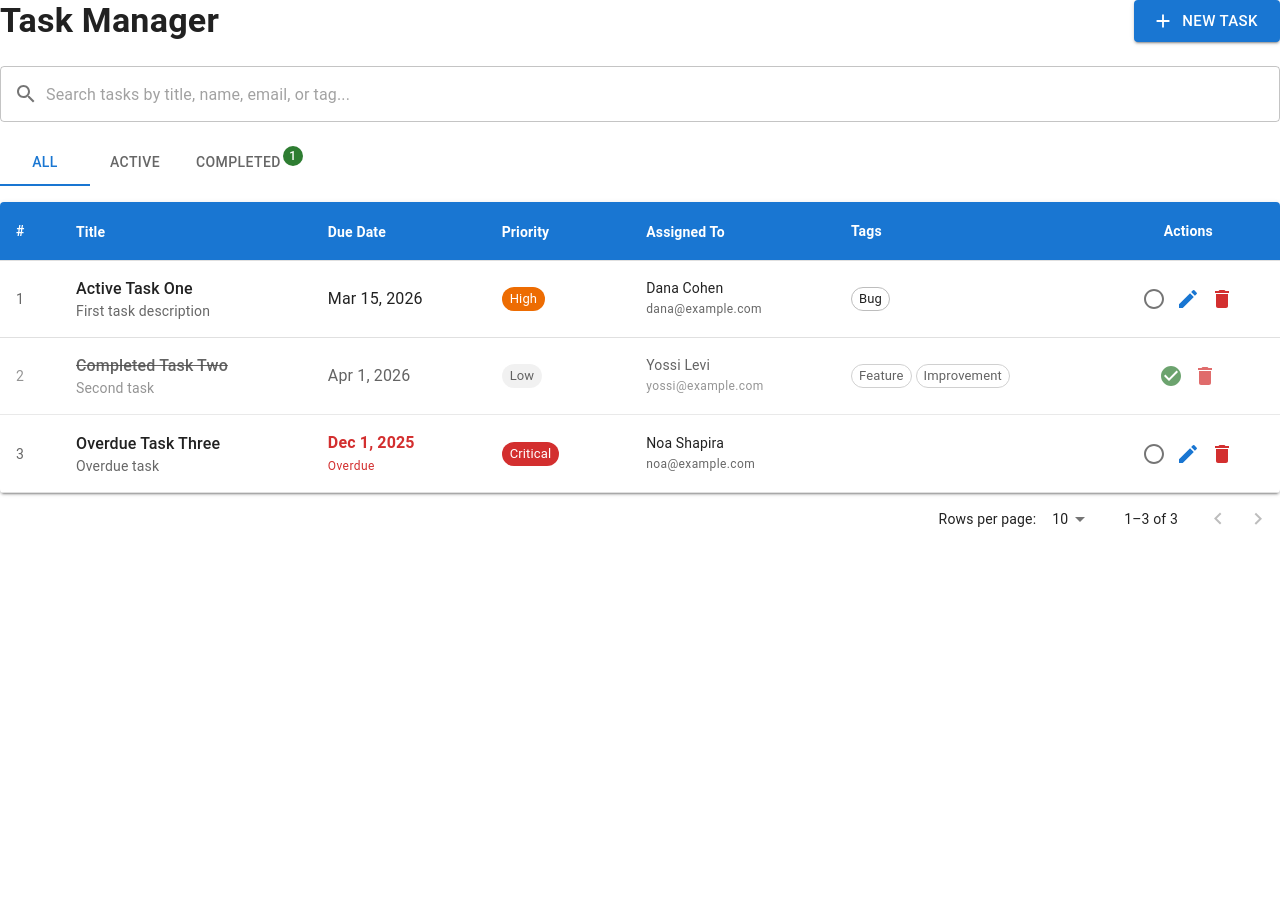
TaskList › opens create dialog when New Task button is clicked
Click the button "New Task" at (1207, 21), box [1134, 0, 1279, 42]
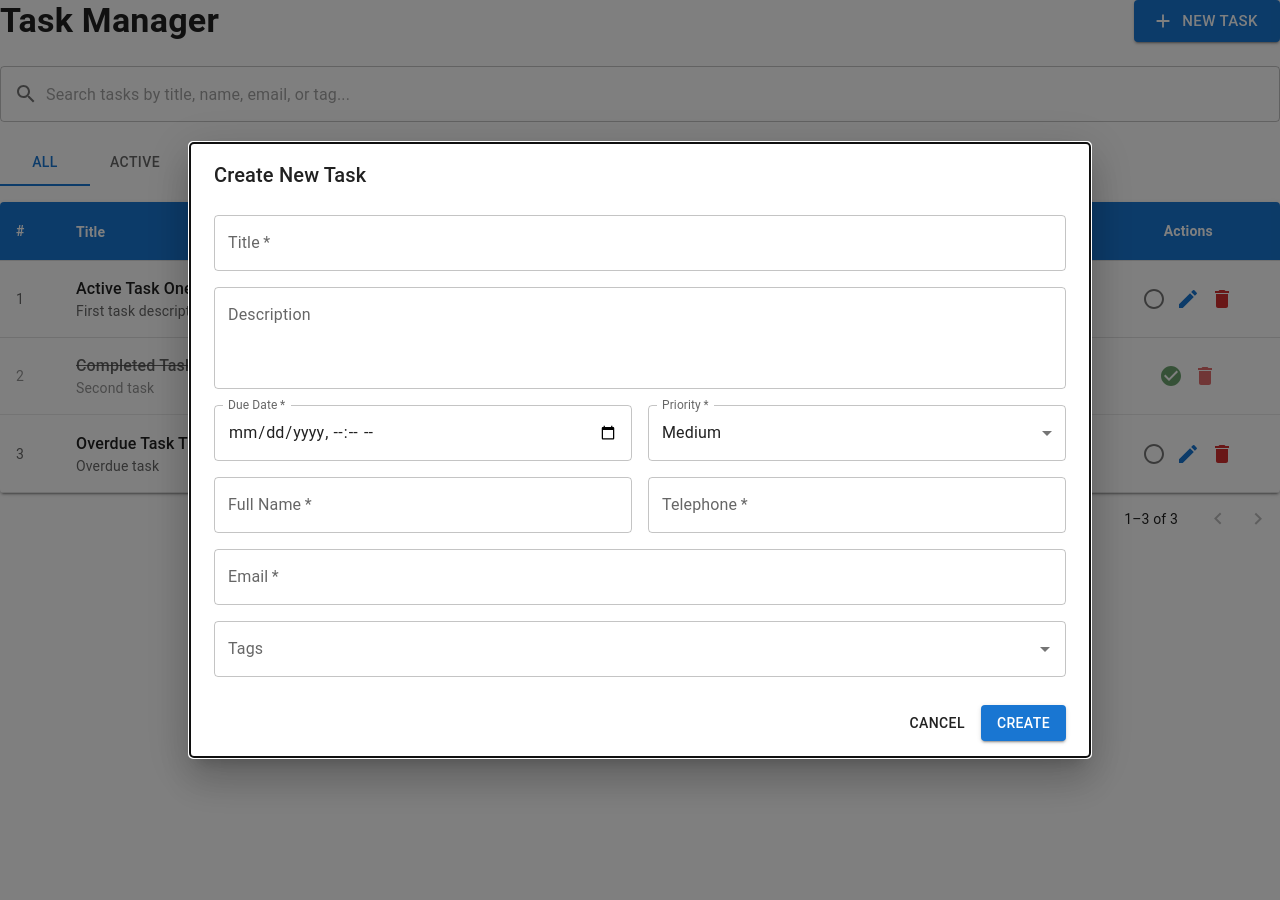
Expected: the heading "Create New Task" is shown, [214, 163, 366, 187]
